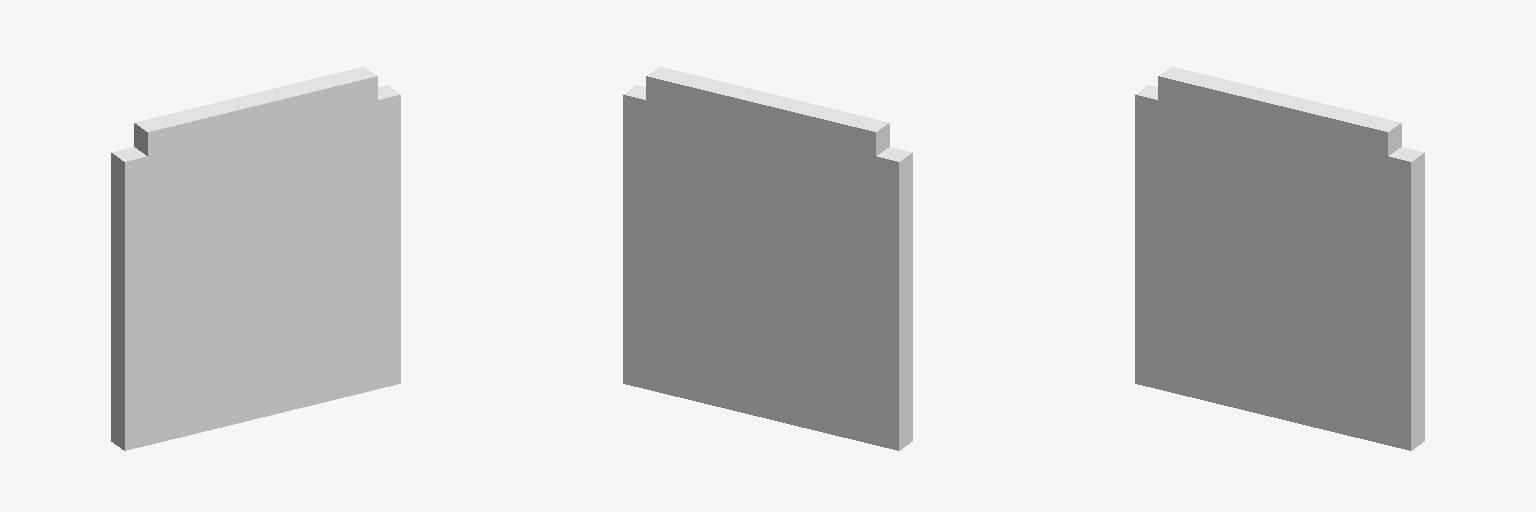
The model's file is icon-charmander-0.obj.
The picture shows the model from 3 angles: view 1: azimuth 30°, elevation 25°; view 2: azimuth 150°, elevation 25°; view 3: azimuth 330°, elevation 25°; orthographic projection.
Parts seen in each view (by area): view 1: object 1; view 2: object 1; view 3: object 1.
Part boxes in pixels (x1,y1,x2,y2): object 1: (111,66,400,450); object 1: (623,66,912,450); object 1: (1135,66,1424,450).
Size of the model in its own units: 1.2 by 1.3 by 0.1.